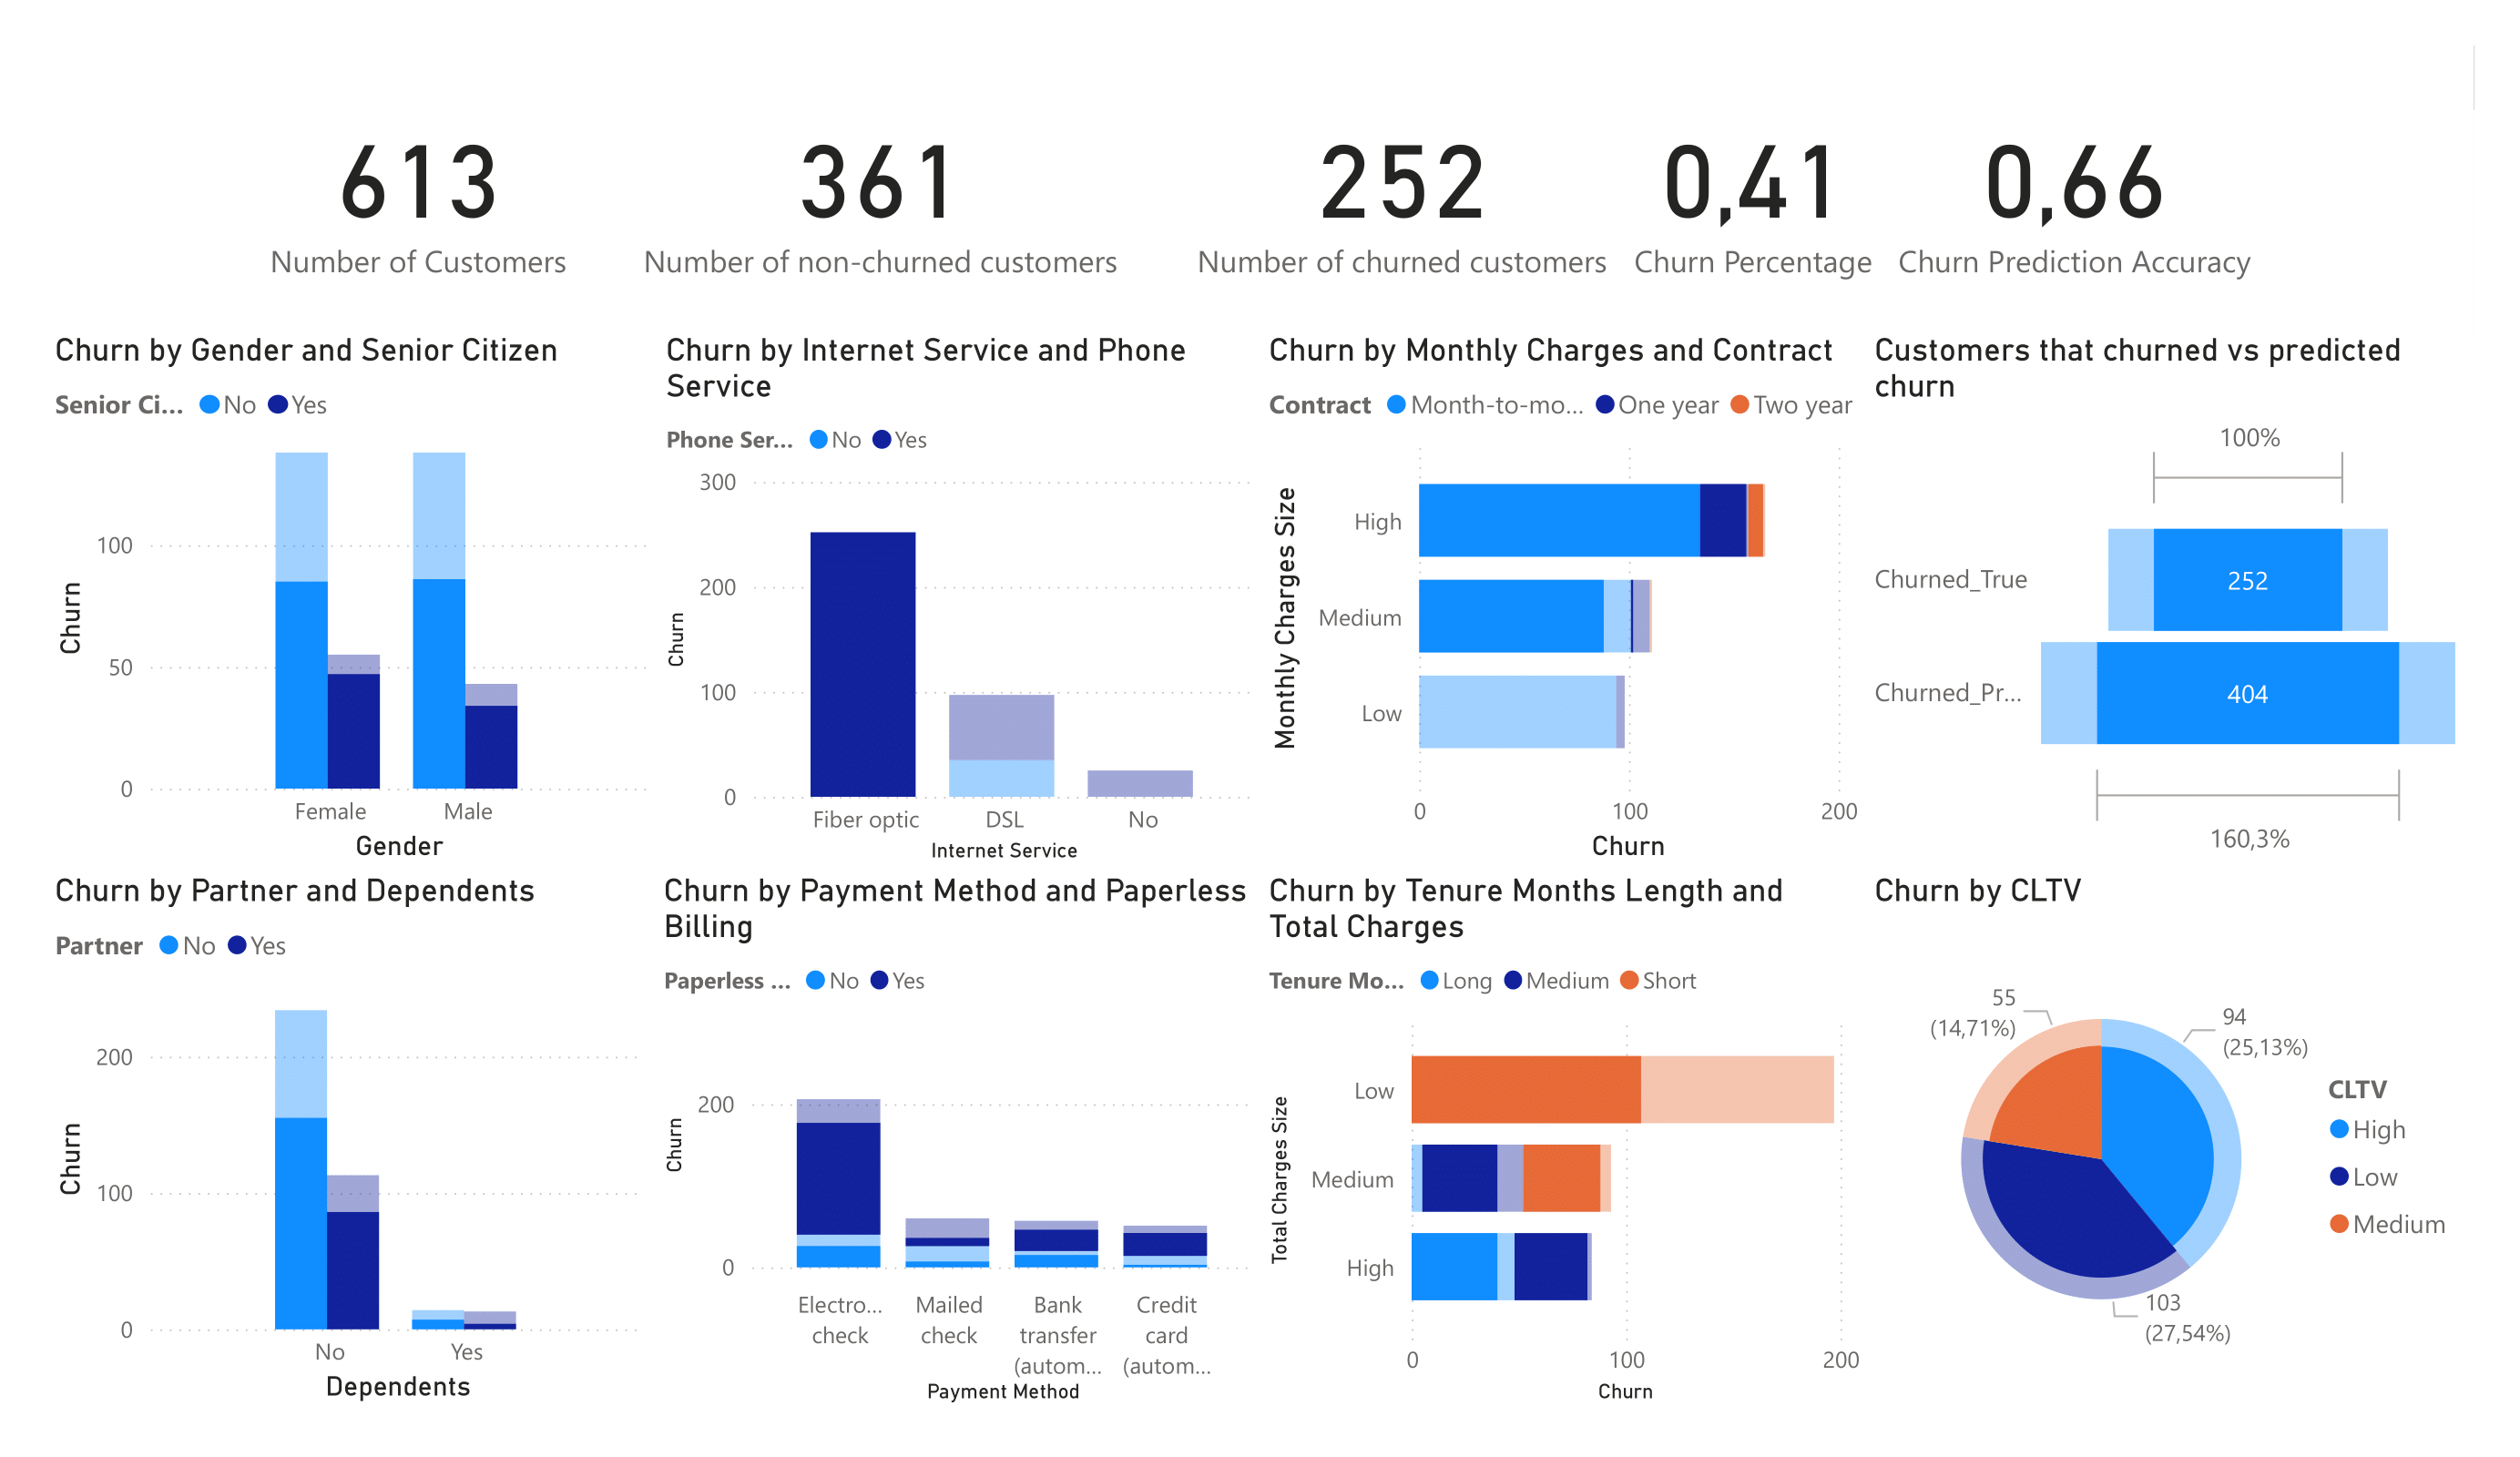

The dashboard page shown, as its layout file describes it:
{"tool":"powerbi","page":{"name":"Side 1","canvas":[1280,720],"ordinal":0},"visuals":[{"type":"card","fields":{"Values":["Avg(Forespørgsel1.y_true)"]},"box":[829.7,0,140.1,149.8],"z":0},{"type":"pieChart","title":"Churn by CLTV","fields":{"Y":["Sum(Attributes.y_true)"],"Category":["Attributes.CLTV Size"]},"box":[959,434.8,321,285],"z":1000},{"type":"card","fields":{"Values":["Attributes.Churn Prediction Accuracy"]},"box":[969.7,0,199.4,149.8],"z":2000},{"type":"barChart","title":"Churn by Tenure Months Length and Total Charges","fields":{"Category":["Attributes.Total Charges Size"],"Series":["Attributes.Tenure Months Length"],"Y":["Sum(Attributes.y_true)"]},"box":[640,434.8,321,285],"z":3000},{"type":"barChart","title":"Churn by Monthly Charges and Contract","fields":{"Category":["Attributes.Monthly Charges Size"],"Y":["Sum(Attributes.y_true)"],"Series":["Attributes.Contract"]},"box":[640,149.8,320,285],"z":4000},{"type":"columnChart","title":"Churn by Payment Method and Paperless Billing","fields":{"Category":["Attributes.Payment Method"],"Y":["Sum(Attributes.y_true)"],"Series":["Attributes.Paperless Billing"]},"box":[321,434.8,321,285],"z":5000},{"type":"columnChart","title":"Churn by Internet Service and Phone Service","fields":{"Category":["Attributes.Internet Service"],"Y":["Sum(Attributes.y_true)"],"Series":["Attributes.Phone Service"]},"box":[321.9,149.8,320,285],"z":6000},{"type":"clusteredColumnChart","title":"Churn by Partner and Dependents","fields":{"Category":["Attributes.Dependents"],"Series":["Attributes.Partner"],"Y":["Sum(Attributes.y_true)"]},"box":[0,434.8,321,285],"z":7000},{"type":"clusteredColumnChart","title":"Churn by Gender and Senior Citizen","fields":{"Category":["Attributes.Gender"],"Series":["Attributes.Senior Citizen"],"Y":["Sum(Attributes.y_true)"]},"box":[0,149.8,321.9,285],"z":8000},{"type":"funnel","title":"Customers that churned vs predicted churn","fields":{"Y":["Sum(Attributes.y_true)","Sum(Attributes.y_pred)"]},"box":[959,149.8,321,285],"z":9000},{"type":"card","fields":{"Values":["CountNonNull(Attributes.y_true)"]},"box":[110.9,0,171.2,149.8],"z":10000},{"type":"card","fields":{"Values":["CountNonNull(Attributes.y_true)"]},"box":[600.1,0,229.5,149.8],"z":11000},{"type":"card","fields":{"Values":["CountNonNull(Attributes.y_true)"]},"box":[280.1,0,320,149.8],"z":12000}]}

Visuals, with their boxes in screenshot pixels (x1, y1, x2, y2):
card - Avg(Forespørgsel1.y_true): 1757,66,2020,346
"Churn by CLTV" pieChart: 1999,880,2519,1413
card - Attributes.Churn Prediction Accuracy: 2019,66,2392,346
"Churn by Tenure Months Length and Total Charges" barChart: 1402,880,2003,1413
"Churn by Monthly Charges and Contract" barChart: 1402,346,2001,880
"Churn by Payment Method and Paperless Billing" columnChart: 804,880,1405,1413
"Churn by Internet Service and Phone Service" columnChart: 806,346,1405,880
"Churn by Partner and Dependents" clusteredColumnChart: 203,880,804,1413
"Churn by Gender and Senior Citizen" clusteredColumnChart: 203,346,806,880
"Customers that churned vs predicted churn" funnel: 1999,346,2519,880
card - CountNonNull(Attributes.y_true): 411,66,731,346
card - CountNonNull(Attributes.y_true): 1327,66,1757,346
card - CountNonNull(Attributes.y_true): 728,66,1327,346
